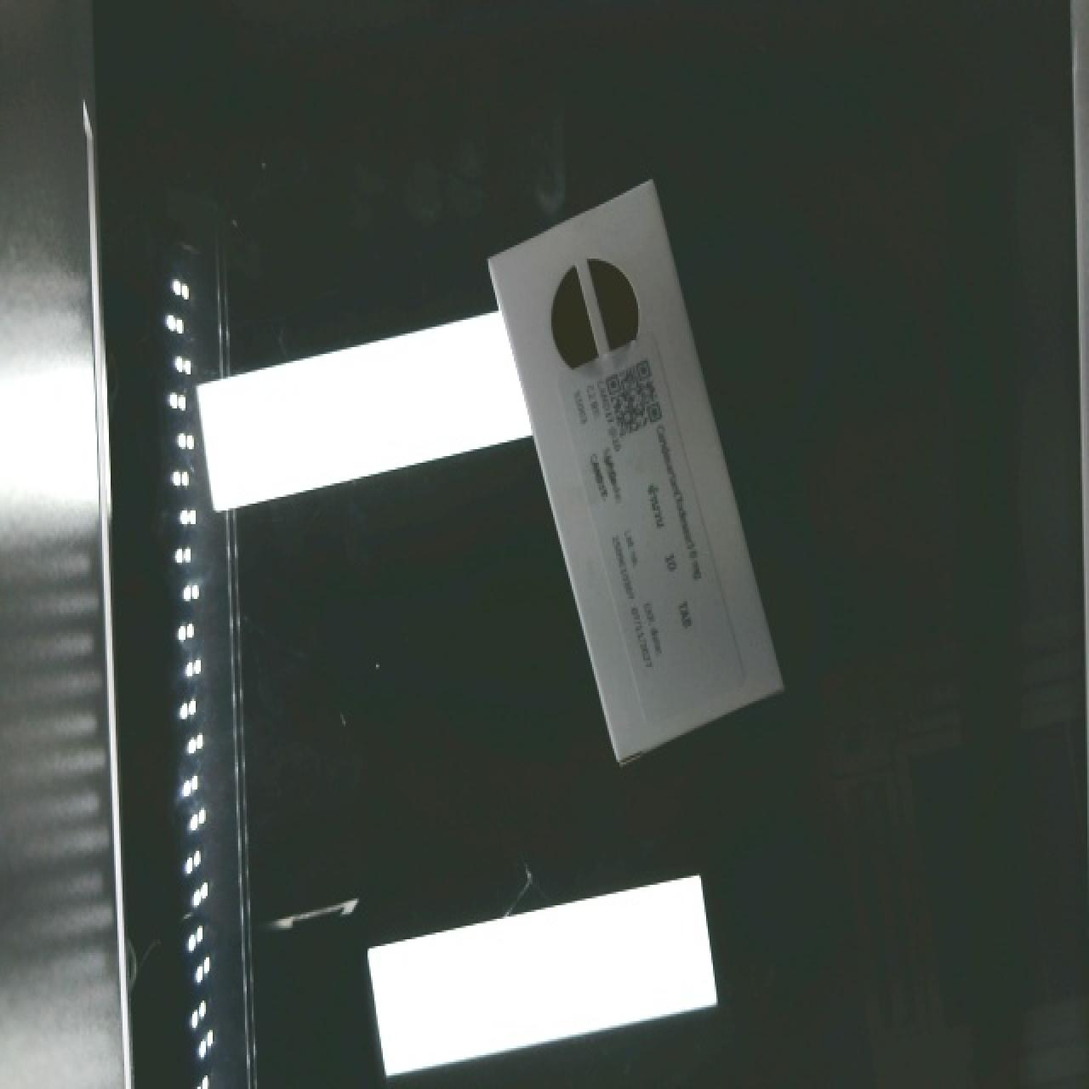qr_code: (588, 336, 682, 460)
